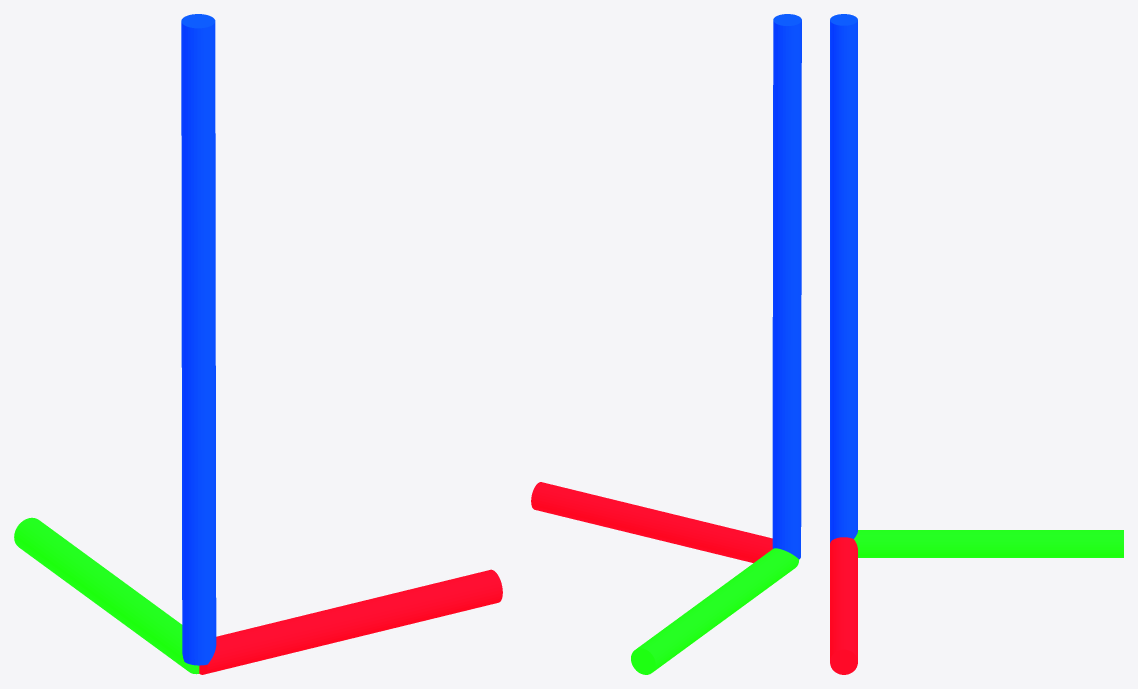
File: axis_long_z.dae
3 views of the same model, side by side, from view 1: azimuth 30°, elevation 25°; view 2: azimuth 150°, elevation 25°; view 3: azimuth 270°, elevation 25° (orthographic). The views are drawn at different scales.
Parts seen in each view (by area): view 1: FRAME_1; view 2: FRAME_1; view 3: FRAME_1.
Part boxes in pixels (bbox=[...]): FRAME_1: bbox=[14, 14, 502, 674]; FRAME_1: bbox=[531, 14, 801, 674]; FRAME_1: bbox=[830, 14, 1123, 674].
Bounding box in the file's own units: 0.7898 × 0.7875 × 1.59.
